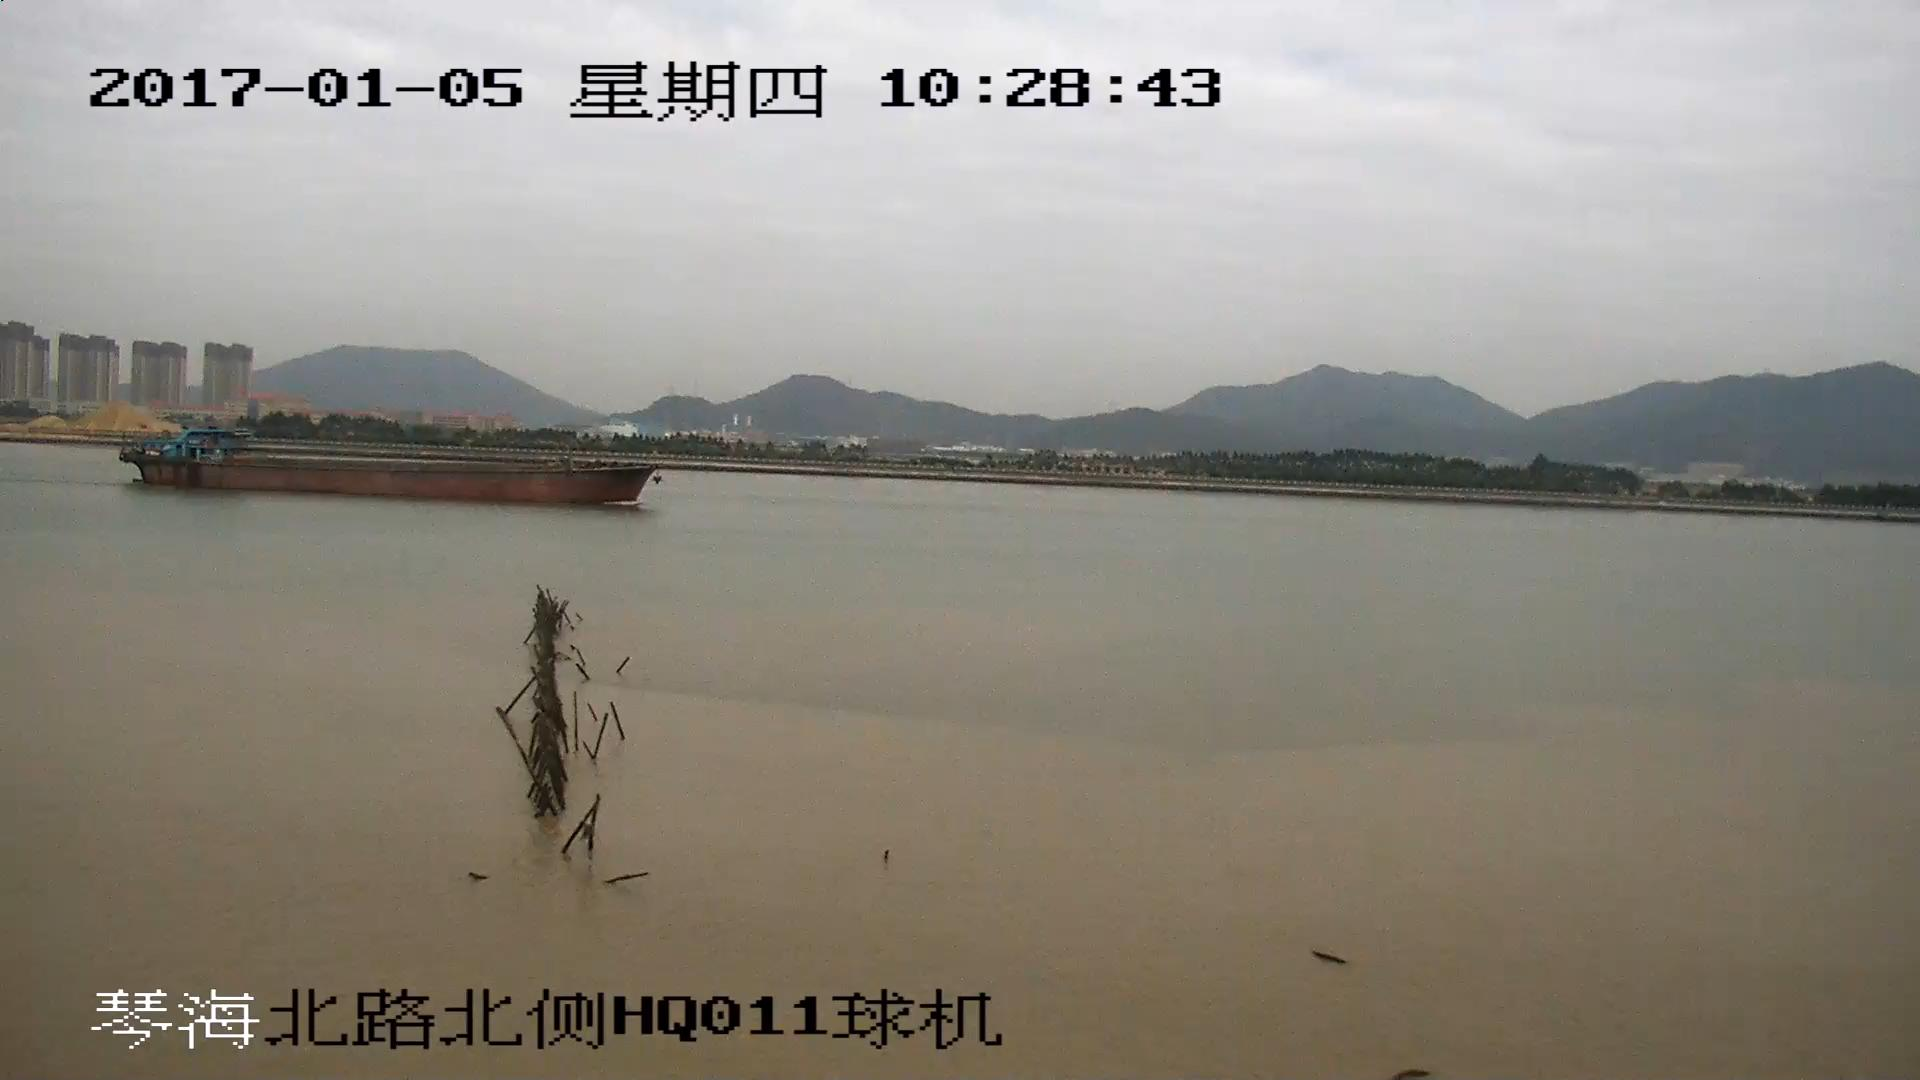bulk cargo carrier: (120, 427, 662, 507)
